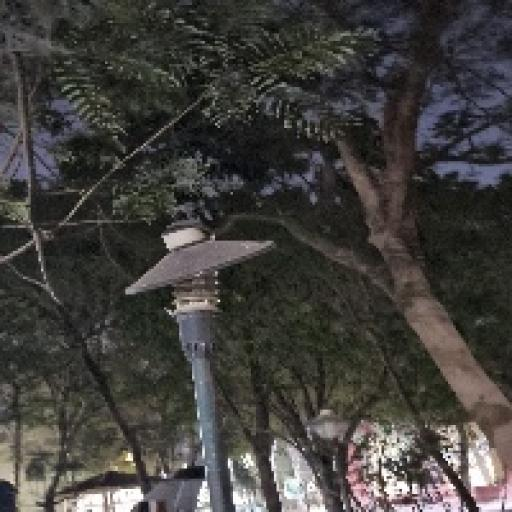Not Working: (116, 201, 288, 312)
